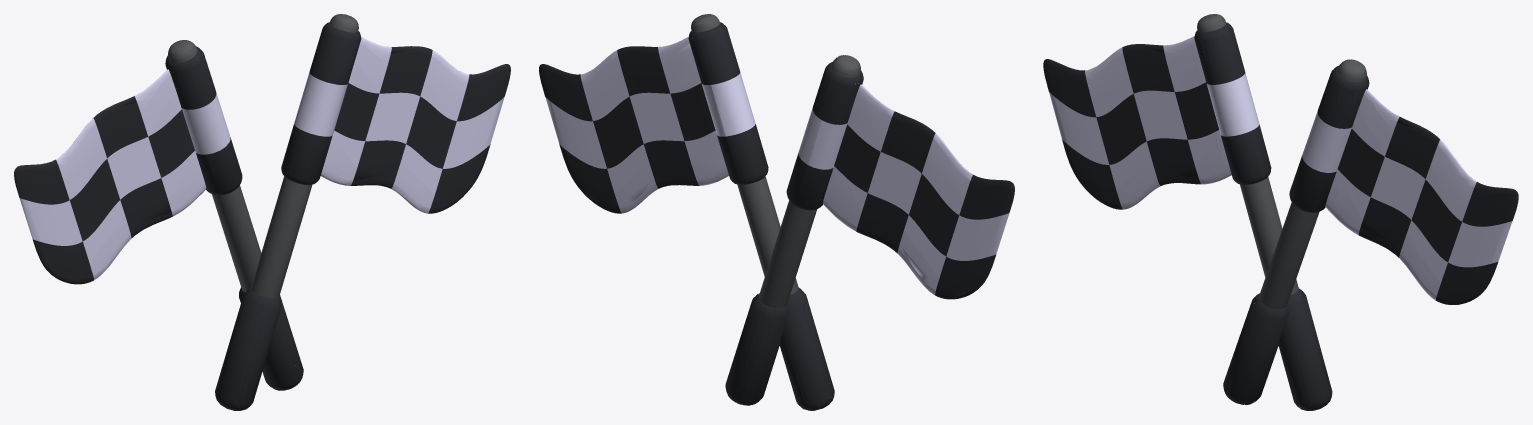
File: FinishFlag.fbx
The picture shows the model from 3 angles, left to right: view 1: azimuth 30°, elevation 25°; view 2: azimuth 150°, elevation 25°; view 3: azimuth 330°, elevation 25°; orthographic projection.
Visible parts, largest first — view 1: Cylinder.002, Cylinder.003; view 2: Cylinder.003, Cylinder.002; view 3: Cylinder.002, Cylinder.003.
Boxes of the visible parts, left/top/right/bottom form: Cylinder.002: left=215, top=14, right=510, bottom=410; Cylinder.003: left=14, top=40, right=303, bottom=390; Cylinder.003: left=725, top=55, right=1014, bottom=405; Cylinder.002: left=539, top=14, right=834, bottom=410; Cylinder.002: left=1223, top=59, right=1518, bottom=404; Cylinder.003: left=1043, top=14, right=1332, bottom=410.
Size of the model in its own units: 486 by 353 by 53.05.
